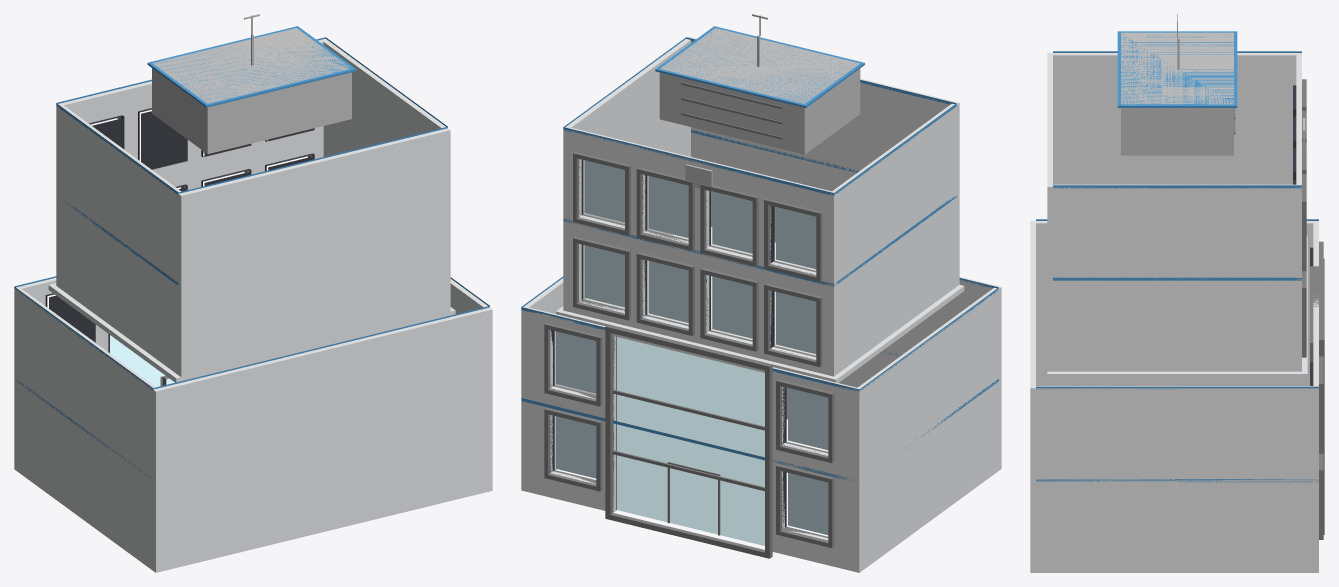
The model's file is Building_2_2.glb.
The picture shows the model from 3 angles, left to right: view 1: azimuth 30°, elevation 25°; view 2: azimuth 150°, elevation 25°; view 3: azimuth 270°, elevation 25°; orthographic projection.
Visible parts, largest first — view 1: Lower_Walls.Back, Upper_Walls.Back, Lower_Walls.Left, Upper_Walls.Left, Penthouse.Body, Upper_Walls.Right, Penthouse.Lid, Upper_Walls.FloorSlab, Windows.U_-0.33_3.06.Back, Upper_Walls.Front_H4_S1, Upper_Walls.Front_H2_S3, Upper_Walls.Front_H2_S7 (+6 smaller); view 2: Lower_Walls.Left, Lobby_Glass.Main, Upper_Walls.Left, Penthouse.Body, Upper_Walls.Back, Upper_Walls.Right, Upper_Walls.FloorSlab, Lower_Walls.Back, Penthouse.Lid, Windows.L_1.2_1.38.Glass, Windows.U_-0.33_3.06.Glass, Windows.L_1.2_0.54.Glass (+44 smaller); view 3: Lower_Walls.Right, Upper_Walls.Right, Upper_Walls.Left, Penthouse.Body, Penthouse.Lid, Lower_Walls.Left, Upper_Walls.FloorSlab, Lower_Walls.Back, Upper_Walls.Back, Trim.Right_Top, Trim.Right_F3, Trim.Right_F2 (+4 smaller).
Boxes of the visible parts, x1=… form: Lower_Walls.Back: x1=153, y1=307, x2=492, y2=572; Upper_Walls.Back: x1=178, y1=128, x2=450, y2=377; Lower_Walls.Left: x1=14, y1=287, x2=155, y2=570; Upper_Walls.Left: x1=56, y1=104, x2=181, y2=374; Penthouse.Body: x1=152, y1=28, x2=351, y2=153; Upper_Walls.Right: x1=323, y1=40, x2=445, y2=156; Penthouse.Lid: x1=147, y1=26, x2=356, y2=107; Upper_Walls.FloorSlab: x1=48, y1=283, x2=455, y2=382; Windows.U_-0.33_3.06.Back: x1=141, y1=111, x2=187, y2=169; Upper_Walls.Front_H4_S1: x1=72, y1=85, x2=137, y2=123; Upper_Walls.Front_H2_S3: x1=201, y1=141, x2=264, y2=180; Upper_Walls.Front_H2_S7: x1=249, y1=131, x2=312, y2=167; Lower_Walls.Left: x1=854, y1=288, x2=998, y2=572; Lobby_Glass.Main: x1=617, y1=337, x2=764, y2=545; Upper_Walls.Left: x1=829, y1=103, x2=956, y2=376; Penthouse.Body: x1=659, y1=28, x2=860, y2=154; Upper_Walls.Back: x1=688, y1=37, x2=959, y2=286; Upper_Walls.Right: x1=563, y1=39, x2=690, y2=311; Upper_Walls.FloorSlab: x1=556, y1=227, x2=964, y2=382; Lower_Walls.Back: x1=786, y1=276, x2=1001, y2=470; Penthouse.Lid: x1=655, y1=26, x2=864, y2=107; Windows.L_1.2_1.38.Glass: x1=556, y1=331, x2=596, y2=393; Windows.U_-0.33_3.06.Glass: x1=712, y1=191, x2=752, y2=253; Windows.L_1.2_0.54.Glass: x1=556, y1=416, x2=596, y2=478; Lower_Walls.Right: x1=1036, y1=386, x2=1318, y2=572; Upper_Walls.Right: x1=1053, y1=184, x2=1301, y2=371; Upper_Walls.Left: x1=1053, y1=53, x2=1301, y2=184; Penthouse.Body: x1=1121, y1=32, x2=1233, y2=155; Penthouse.Lid: x1=1117, y1=31, x2=1237, y2=107; Lower_Walls.Left: x1=1036, y1=221, x2=1318, y2=385; Upper_Walls.FloorSlab: x1=1047, y1=235, x2=1307, y2=378; Lower_Walls.Back: x1=1030, y1=221, x2=1035, y2=572; Upper_Walls.Back: x1=1047, y1=53, x2=1052, y2=371; Trim.Right_Top: x1=1053, y1=185, x2=1301, y2=188; Trim.Right_F3: x1=1053, y1=277, x2=1301, y2=280; Trim.Right_F2: x1=1036, y1=386, x2=1318, y2=389.
Size of the model in its own units: 3.5 by 4.65 by 2.6.
